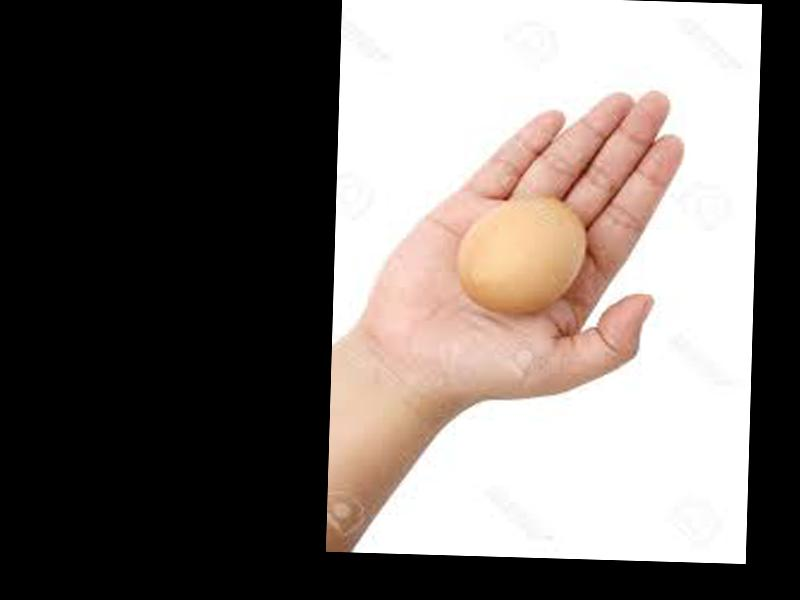Eggs: (456, 197, 586, 317)
